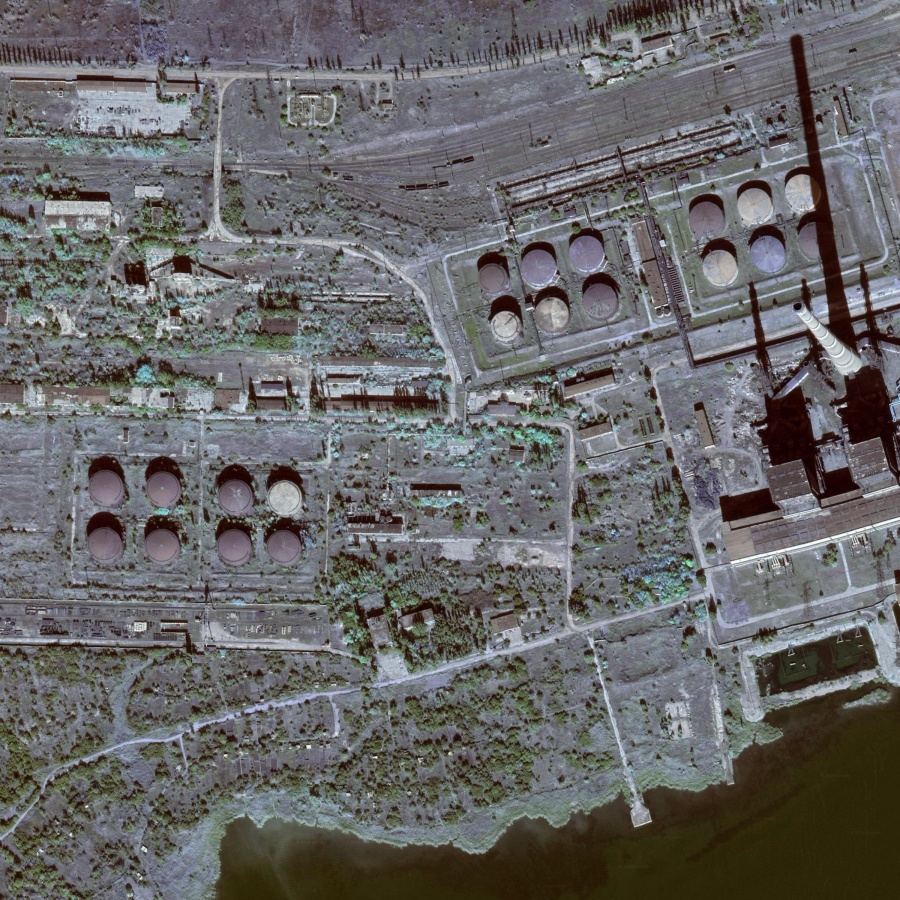PowerPlant: (53, 416, 323, 594), (440, 205, 647, 381)
